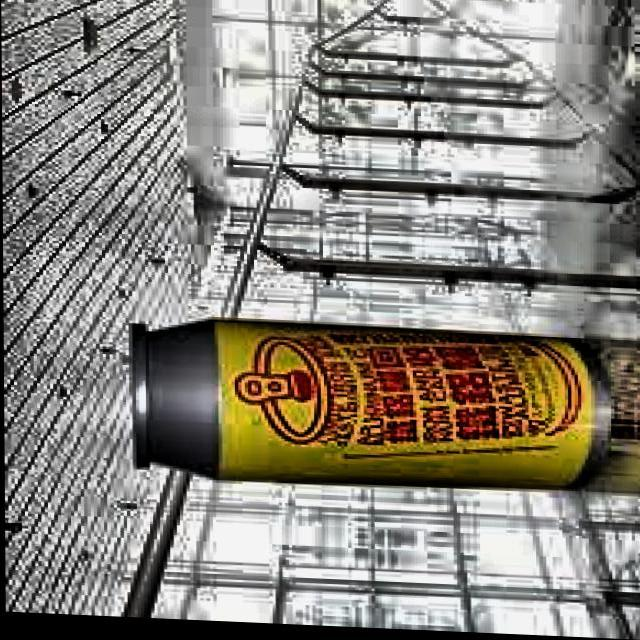litter: (108, 313, 616, 504)
